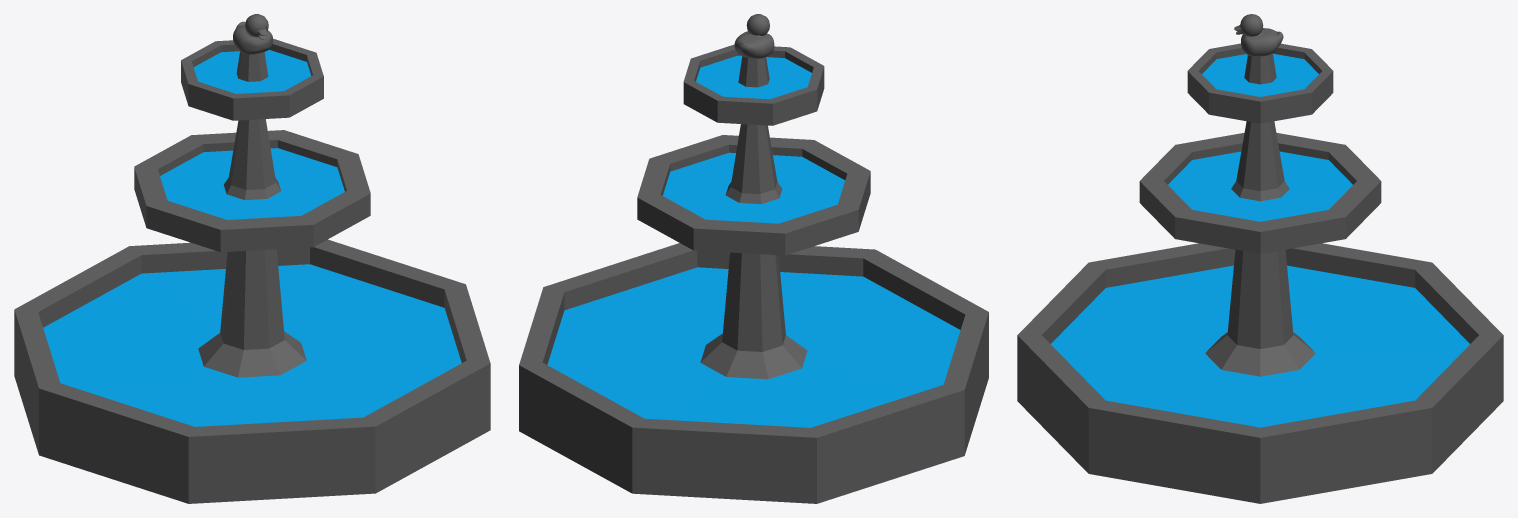
File: Realfouintain.fbx
3 views of the same model, side by side, from view 1: azimuth 30°, elevation 25°; view 2: azimuth 150°, elevation 25°; view 3: azimuth 270°, elevation 25° (orthographic).
Visible parts, largest first — view 1: Cylinder, Beak; view 2: Cylinder, Beak; view 3: Cylinder, Beak.
Boxes of the visible parts, bbox=[...] form: Cylinder: bbox=[14, 38, 490, 503]; Beak: bbox=[233, 14, 272, 54]; Cylinder: bbox=[519, 44, 988, 503]; Beak: bbox=[734, 14, 774, 58]; Cylinder: bbox=[1017, 43, 1503, 503]; Beak: bbox=[1234, 14, 1283, 56].
Bounding box in the file's own units: 200 × 175 × 200.
